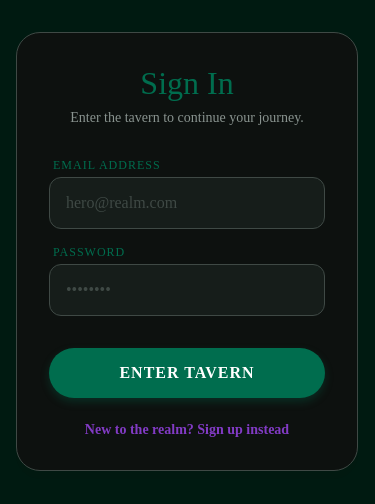
Test: Login Screen › shows error message on failed login
The width and height of the screenshot is (375, 504).
Type "peter@gmail.com" into the field with test id "auth-email-input" at [187, 202], box x1=49 y1=176 x2=325 y2=228
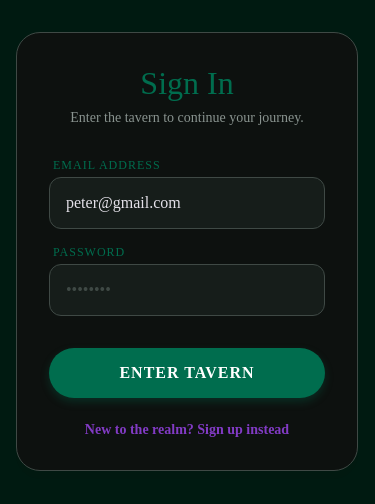
Type "wrongpassword" into the password field with test id "auth-password-input" at [175, 290], box x1=50 y1=264 x2=300 y2=314
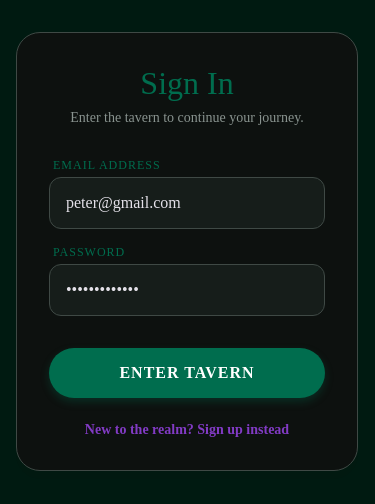
Click the element with test id "auth-submit-button" at [187, 372], box x1=49 y1=348 x2=325 y2=398
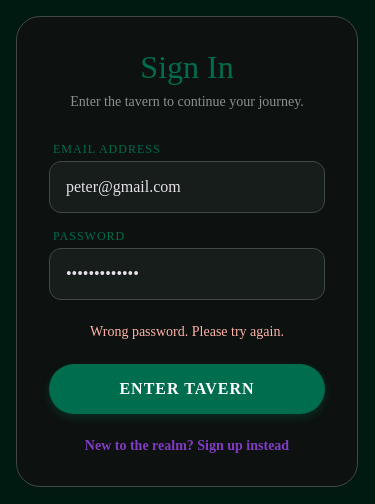
Result: the text "Wrong password. Please try again." is shown at x1=90 y1=324 x2=284 y2=338
